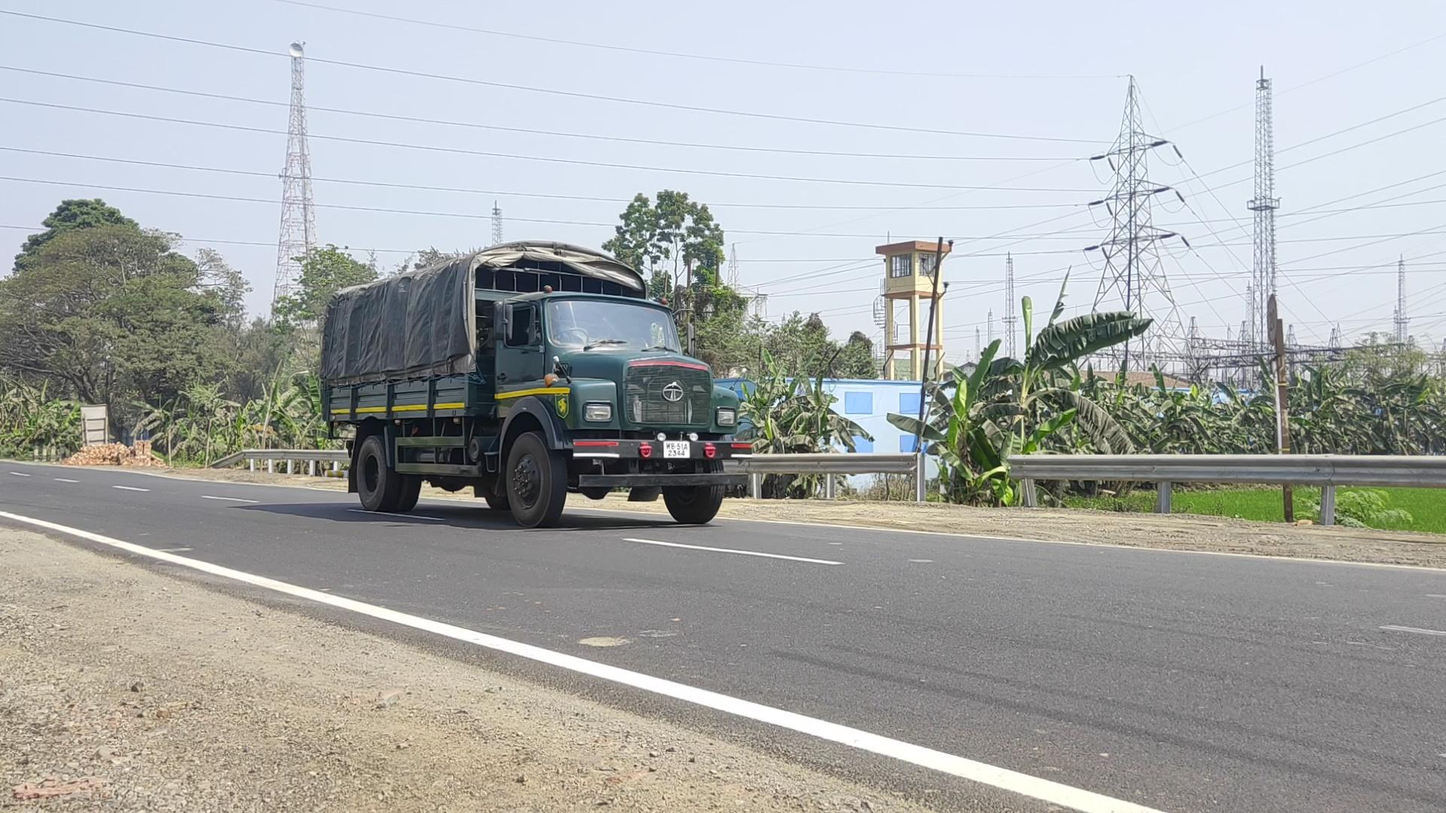truck: (319, 240, 753, 530)
